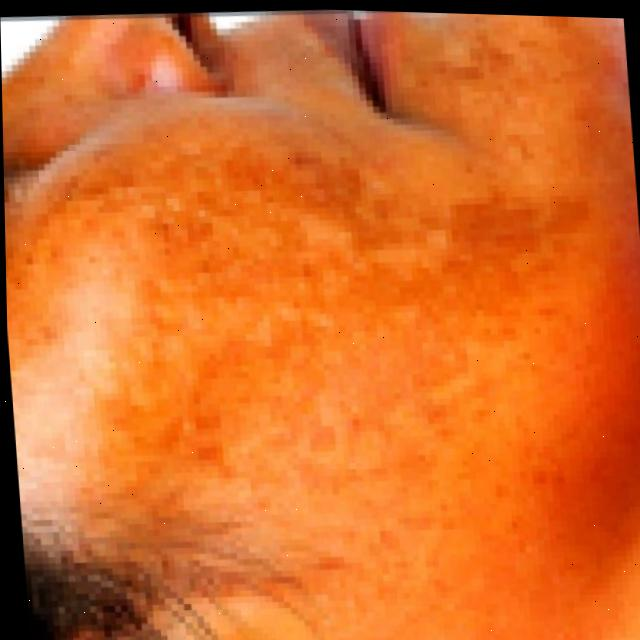Melasma: (49, 88, 542, 545)
